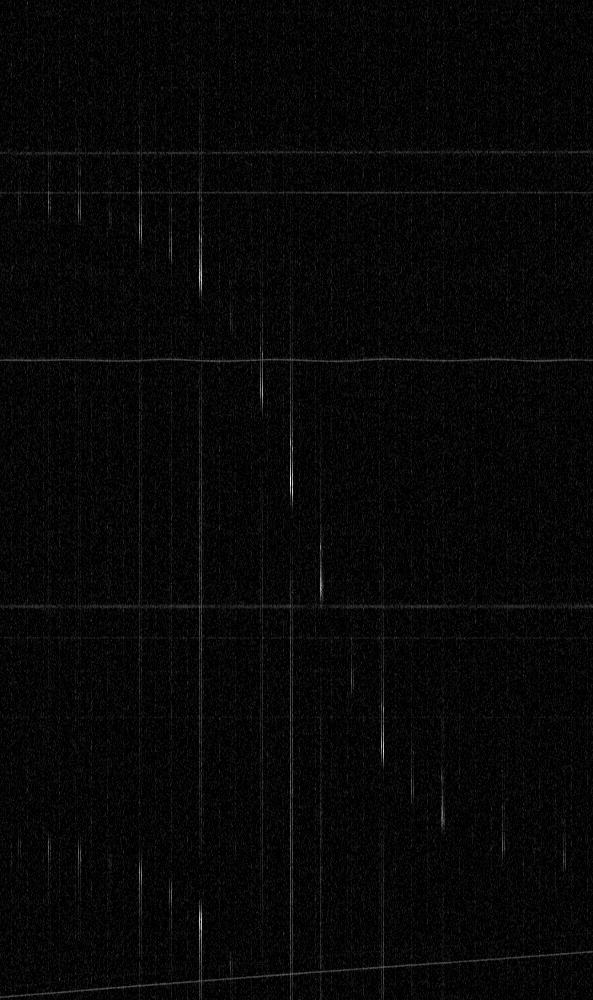signal: (0, 0, 592, 999)
